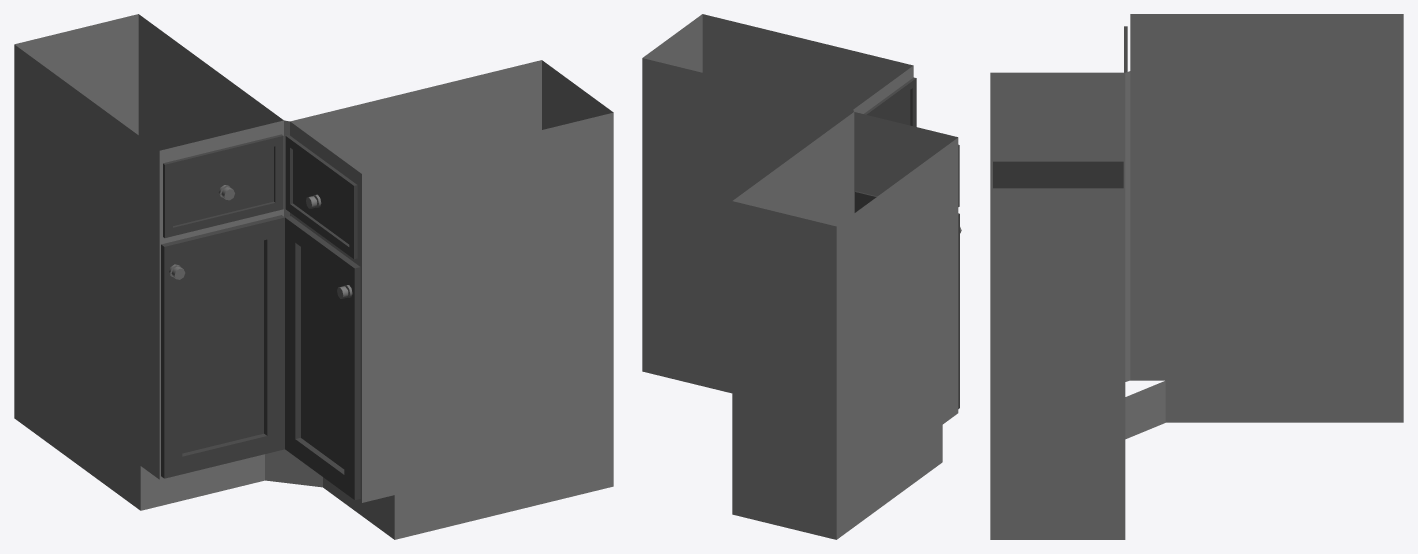
File: BaseLowerCabinet(L-Shaped).fbx
3 renders of one model, left to right at view 1: azimuth 30°, elevation 25°; view 2: azimuth 150°, elevation 25°; view 3: azimuth 270°, elevation 25°, orthographic. The views are drawn at different scales.
Visible parts, largest first — view 1: Cube.041; view 2: Cube.041; view 3: Cube.041.
Part boxes in pixels (x1=…): Cube.041: x1=14, y1=14, x2=613, y2=539; Cube.041: x1=642, y1=14, x2=961, y2=539; Cube.041: x1=990, y1=14, x2=1403, y2=539.
Bounding box in the file's own units: 93.11 × 87.63 × 93.34.
2 materials, 1 textured.
